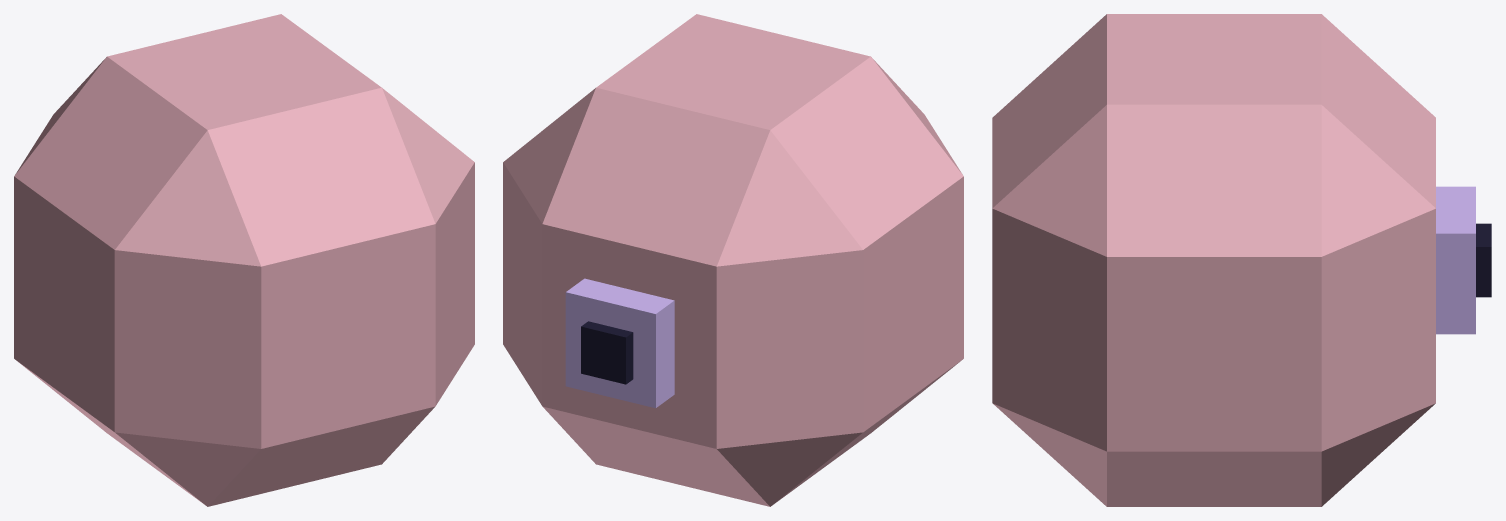
Rendered from eye_balloon_eye.glb.
3 views of the same model, side by side, from view 1: azimuth 30°, elevation 25°; view 2: azimuth 150°, elevation 25°; view 3: azimuth 270°, elevation 25° (orthographic). The views are drawn at different scales.
Visible parts, largest first — view 1: Eyeball; view 2: Eyeball, Iris, Pupil; view 3: Eyeball, Iris, Pupil.
Part boxes in pixels (box(x1,y1,x2,y2)): Eyeball: box(14, 14, 474, 506); Eyeball: box(503, 14, 963, 506); Iris: box(565, 278, 674, 408); Pupil: box(581, 321, 633, 384); Eyeball: box(992, 14, 1435, 506); Iris: box(1436, 186, 1475, 334); Pupil: box(1476, 223, 1491, 297).
Bounding box in the file's own units: 2 × 2 × 2.25.
